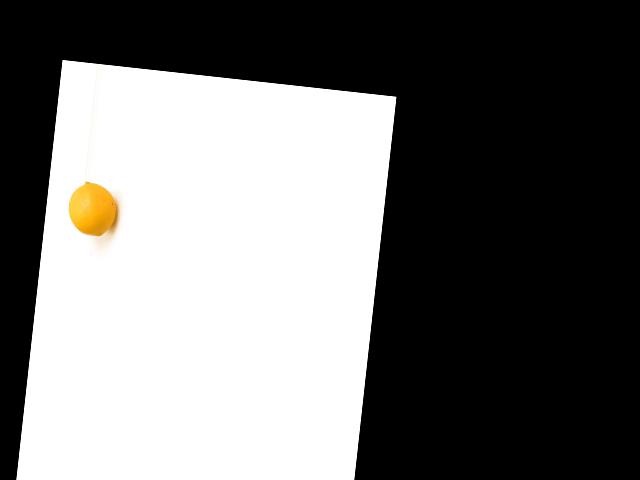lemon: (64, 179, 126, 245)
